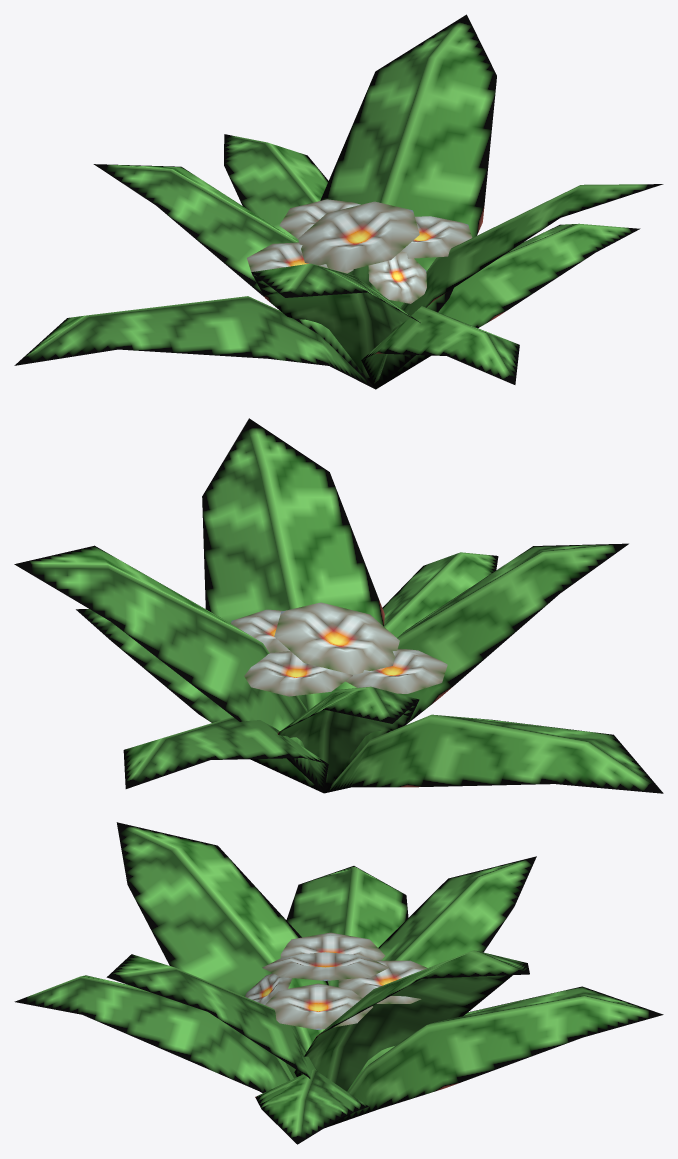
File: deco_flowerPlant_white.FBX
3 renders of one model, top to bottom at view 1: azimuth 30°, elevation 25°; view 2: azimuth 150°, elevation 25°; view 3: azimuth 270°, elevation 25°, orthographic. The views are drawn at different scales.
Visible parts, largest first — view 1: deco_flowerPlant_white; view 2: deco_flowerPlant_white; view 3: deco_flowerPlant_white.
Boxes of the visible parts, bbox=[...] form: deco_flowerPlant_white: bbox=[14, 14, 663, 389]; deco_flowerPlant_white: bbox=[14, 418, 663, 793]; deco_flowerPlant_white: bbox=[14, 822, 663, 1144].
Bounding box in the file's own units: 2.18 × 0.8732 × 2.06.
1 material, 1 textured.
